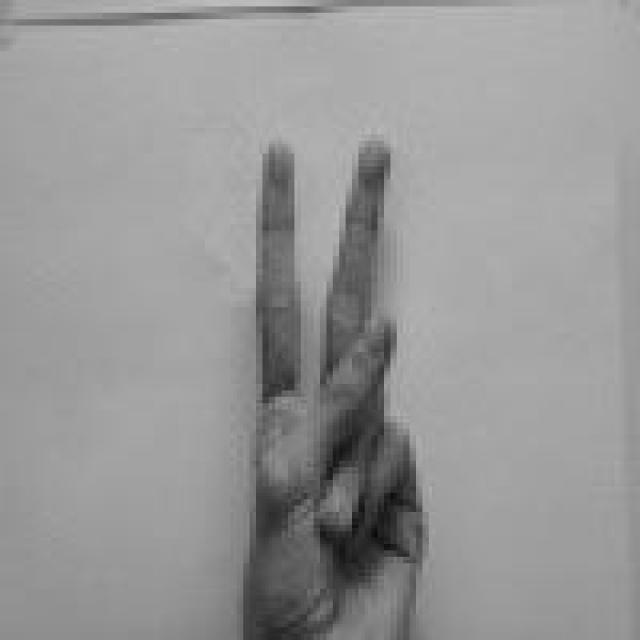V: (225, 131, 430, 640)
